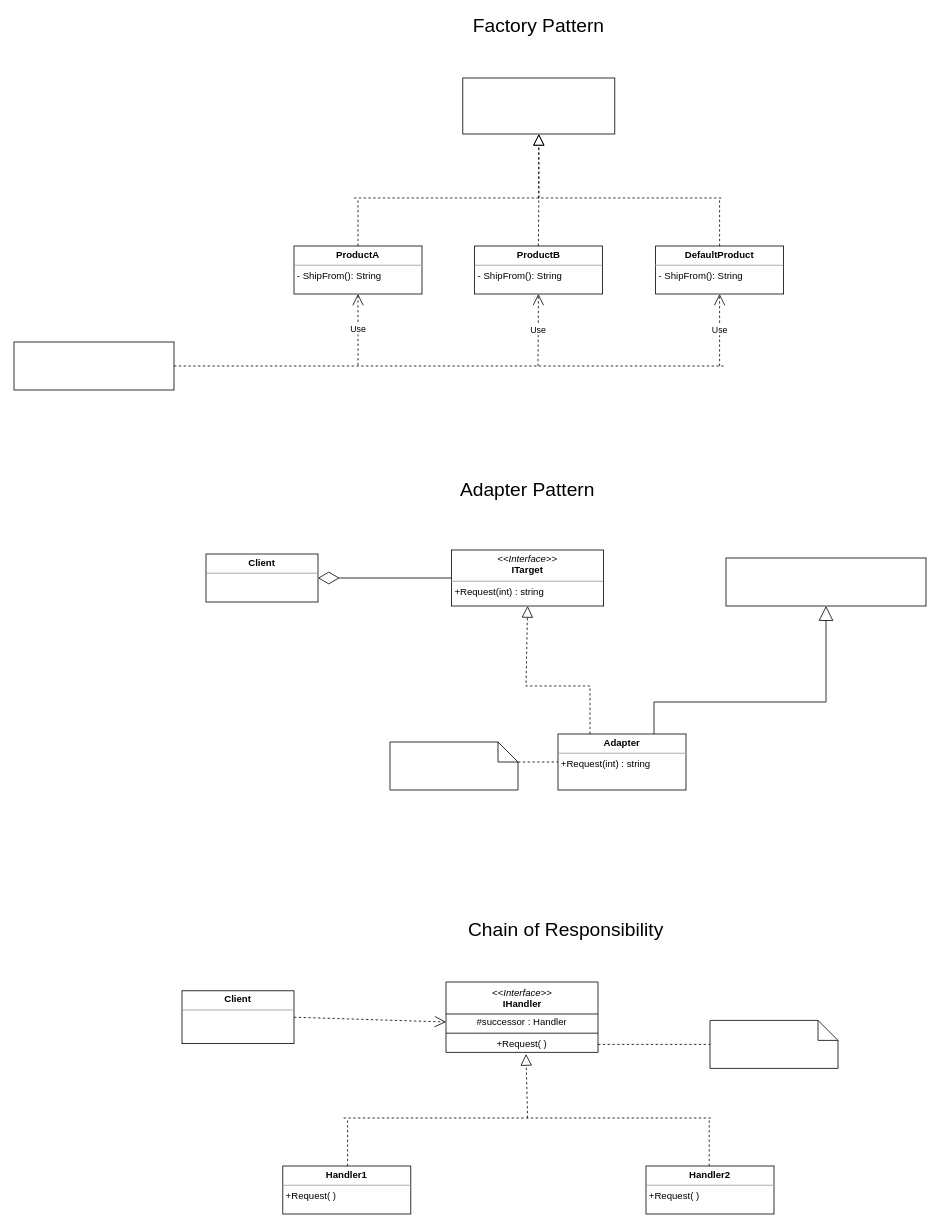
Some shapes in this 940 by 1228 pixel diagram are drawn without their labels. The box of each missing label's shape, as (x1, y1, x2, y2) in pixels:
<<Interface>> IProduct - ShipFrom(): String: (462, 77, 615, 134)
Adaptee +SpecificRequest(double , double ) : double: (725, 557, 926, 606)
Calls Successor if necessary: (709, 1020, 838, 1068)
Creator + FactoryMethod(month): IProduct: (13, 341, 174, 390)
Request( ) invokes SpecificRequest( ): (389, 741, 518, 790)
